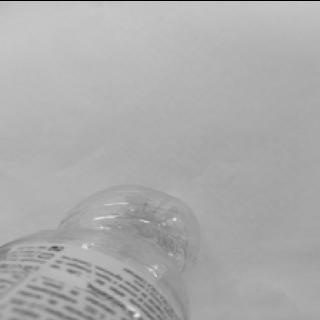plastic_bottles: (0, 161, 215, 320)
